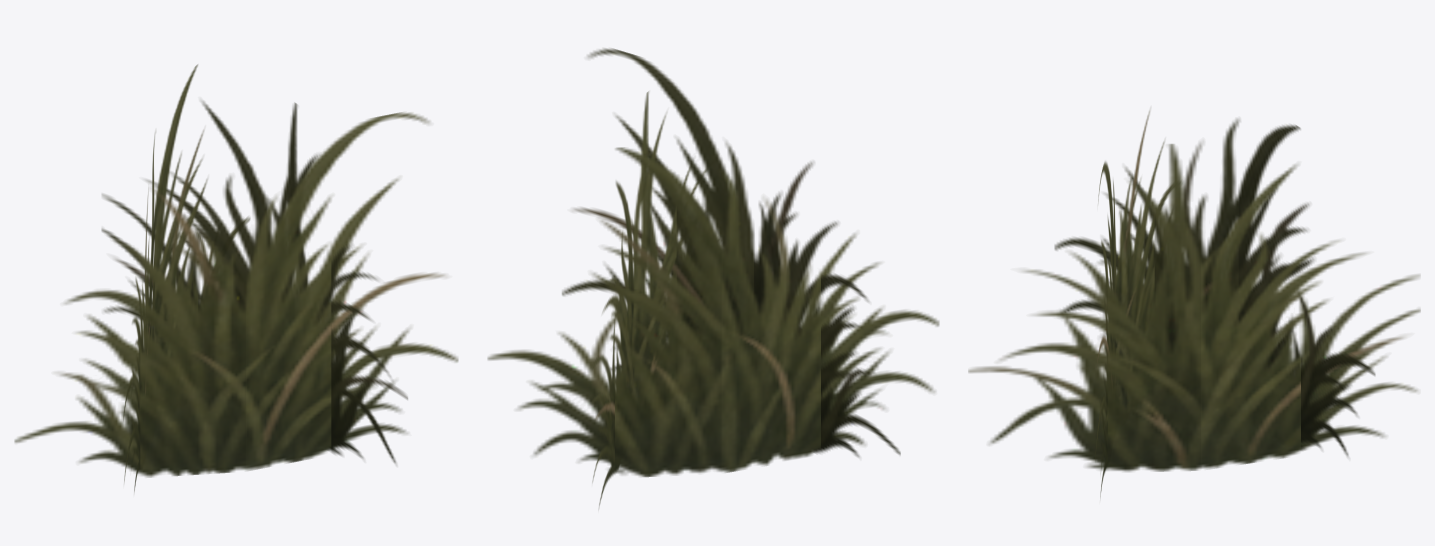
3 renders of one model, left to right at view 1: azimuth 30°, elevation 25°; view 2: azimuth 150°, elevation 25°; view 3: azimuth 270°, elevation 25°, orthographic.
Visible parts, largest first — view 1: woodland-grass-high-a · evaluated preview mesh; view 2: woodland-grass-high-a · evaluated preview mesh; view 3: woodland-grass-high-a · evaluated preview mesh.
Boxes of the visible parts, <box> form: woodland-grass-high-a · evaluated preview mesh: <box>14,64,458,491</box>; woodland-grass-high-a · evaluated preview mesh: <box>487,48,939,506</box>; woodland-grass-high-a · evaluated preview mesh: <box>968,110,1420,497</box>.
Size of the model in its own units: 2.04 by 1.65 by 2.06.
1 material, 1 textured.
